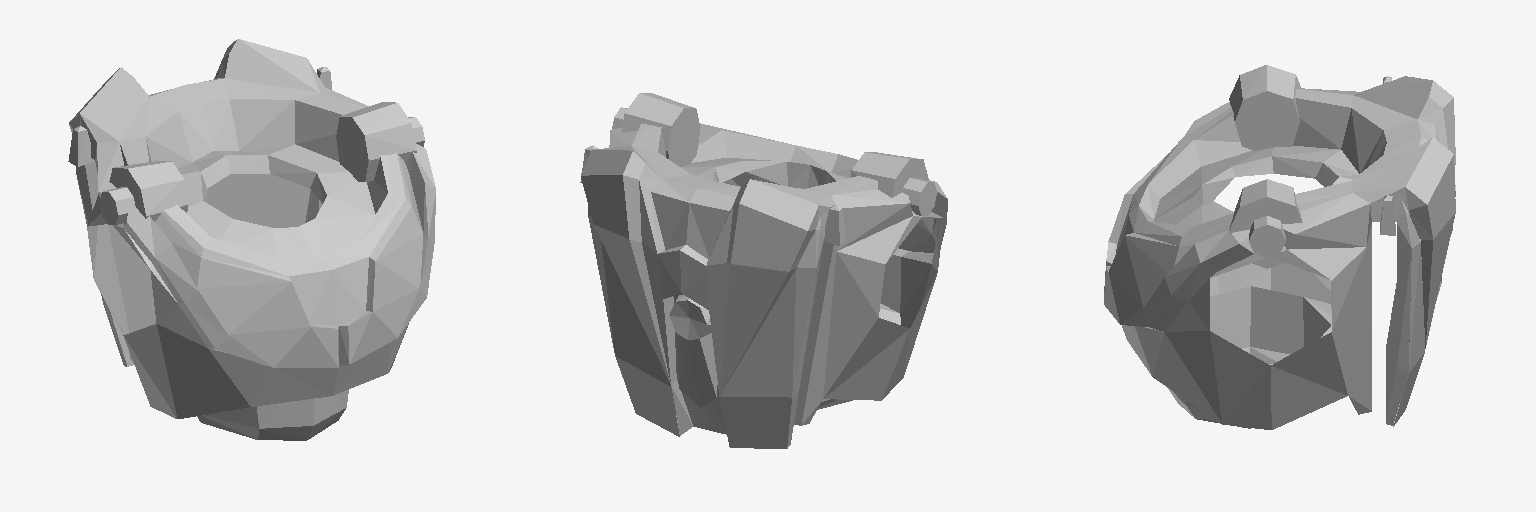
Rendered from buzzlightyTorso.obj.
3 views of the same model, side by side, from view 1: azimuth 30°, elevation 25°; view 2: azimuth 150°, elevation 25°; view 3: azimuth 270°, elevation 25° (orthographic).
Parts seen in each view (by area): view 1: buzzlightyTorso_buzzlighty.010; view 2: buzzlightyTorso_buzzlighty.010; view 3: buzzlightyTorso_buzzlighty.010.
Boxes of the visible parts, box(x1,y1,x2,y2) form: buzzlightyTorso_buzzlighty.010: box(68, 39, 435, 440); buzzlightyTorso_buzzlighty.010: box(580, 93, 947, 448); buzzlightyTorso_buzzlighty.010: box(1104, 65, 1455, 429).
Bounding box in the file's own units: 0.3463 × 0.3173 × 0.3446.